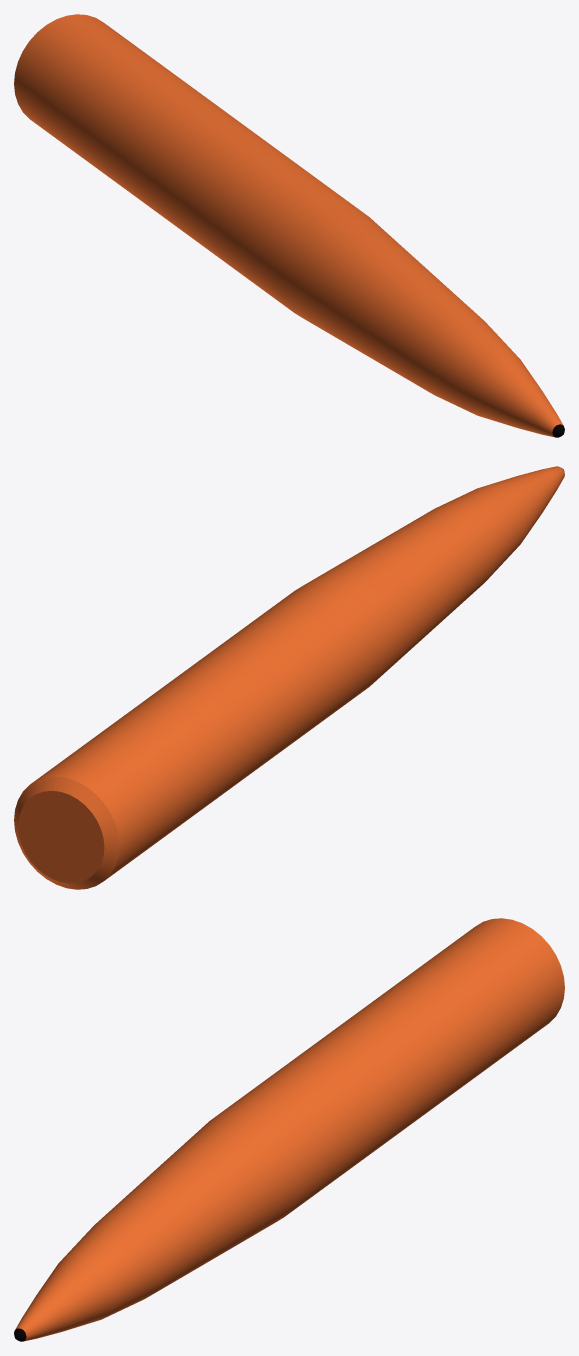
Rendered from BulletV2.fbx.
3 renders of one model, top to bottom at view 1: azimuth 30°, elevation 25°; view 2: azimuth 150°, elevation 25°; view 3: azimuth 330°, elevation 25°, orthographic.
Visible parts, largest first — view 1: BulletV2; view 2: BulletV2; view 3: BulletV2.
Boxes of the visible parts, box(x1,y1,x2,y2) form: BulletV2: box(14, 14, 564, 437); BulletV2: box(14, 466, 564, 889); BulletV2: box(14, 918, 564, 1341).
Size of the model in its own units: 0.00528 by 0.0435 by 0.00528.
